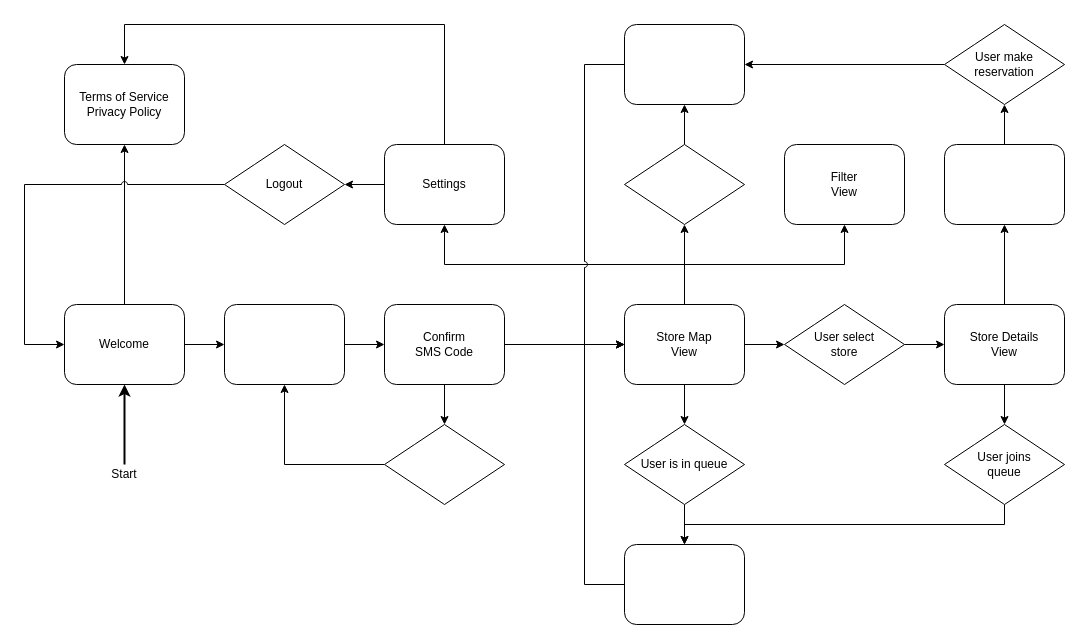
The diagram is 1082 pixels wide and 642 high, and some of its shapes have lost their labels. The shapes that lost their labels are listed below. From the top down, each one's centre as x and y in pixels, then its label:
At (x=684, y=64): "Reservation Receipt View".
At (x=684, y=184): "User has reservation".
At (x=1004, y=184): "Reservation: Select timeslot".
At (x=284, y=344): "Login (Insert Phone Number)".
At (x=444, y=464): "User inputs wrong number".
At (x=684, y=584): "Queue Receipt View".
